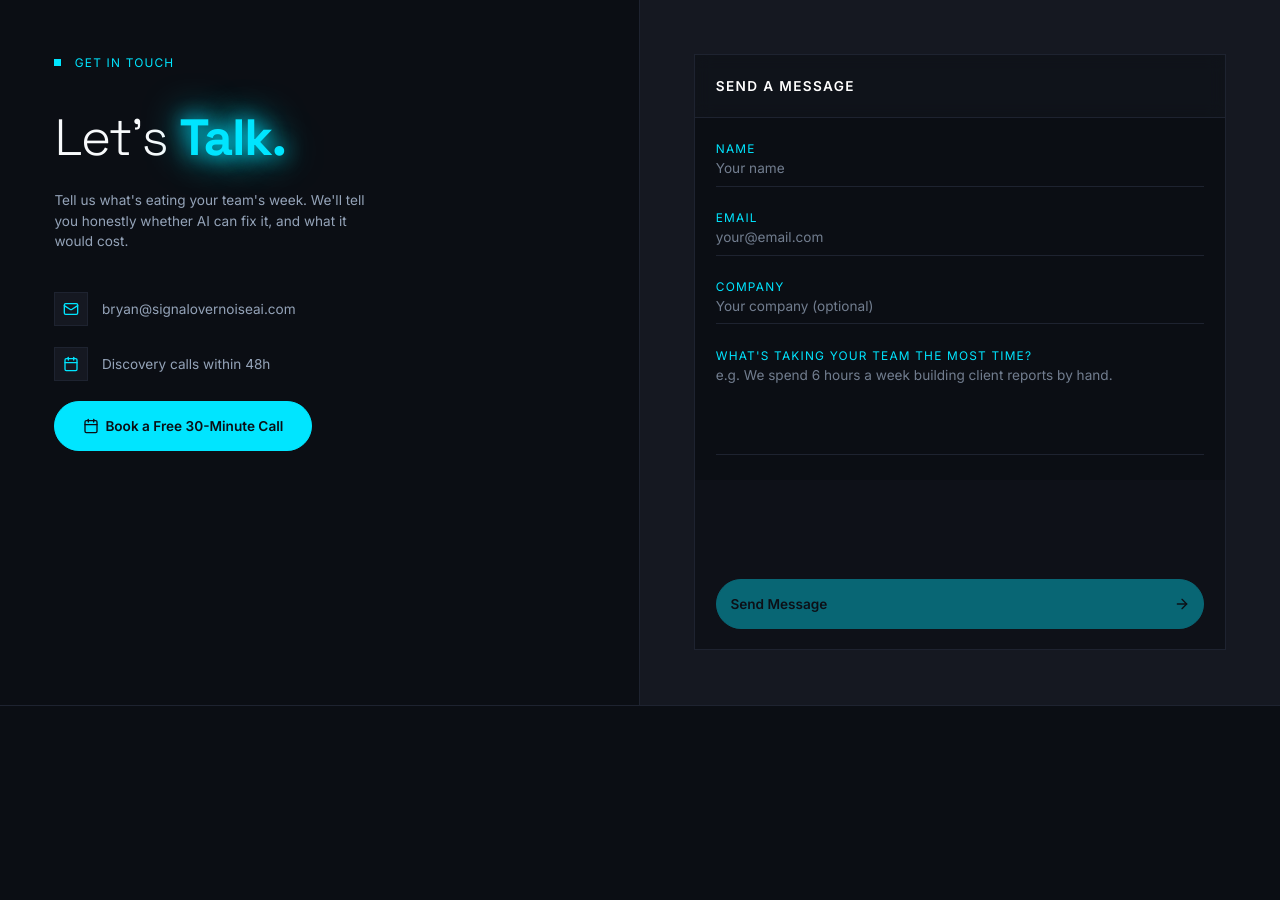
Scenario: the contact form › counts a delivered inquiry
Focus the field labelled "Name" at x=960, y=172, box [716, 158, 1204, 186]
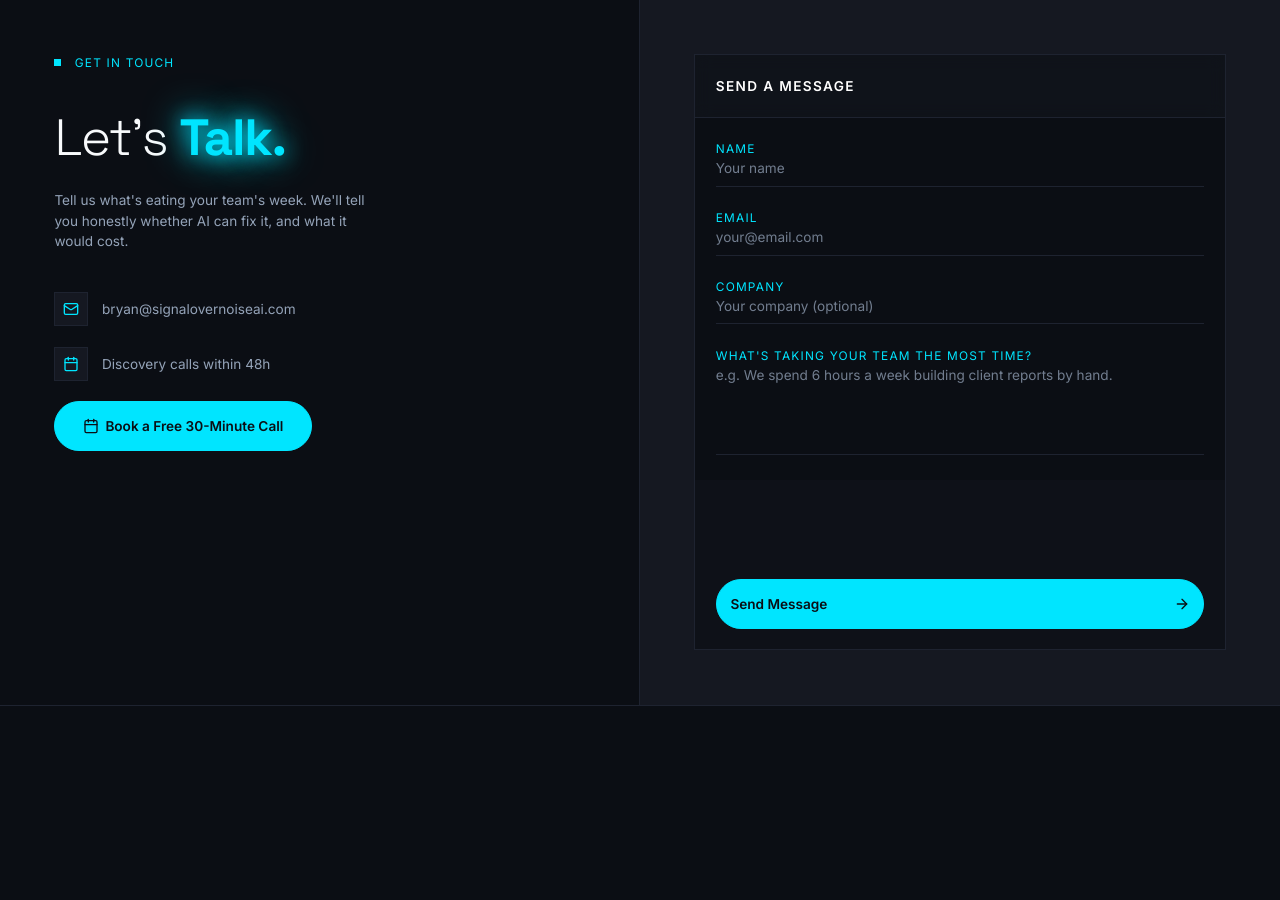
Now the button "Send Message" is enabled, box [716, 579, 1204, 629]
Type "Ada" into the field labelled "Name" at x=960, y=172, box [716, 158, 1204, 186]
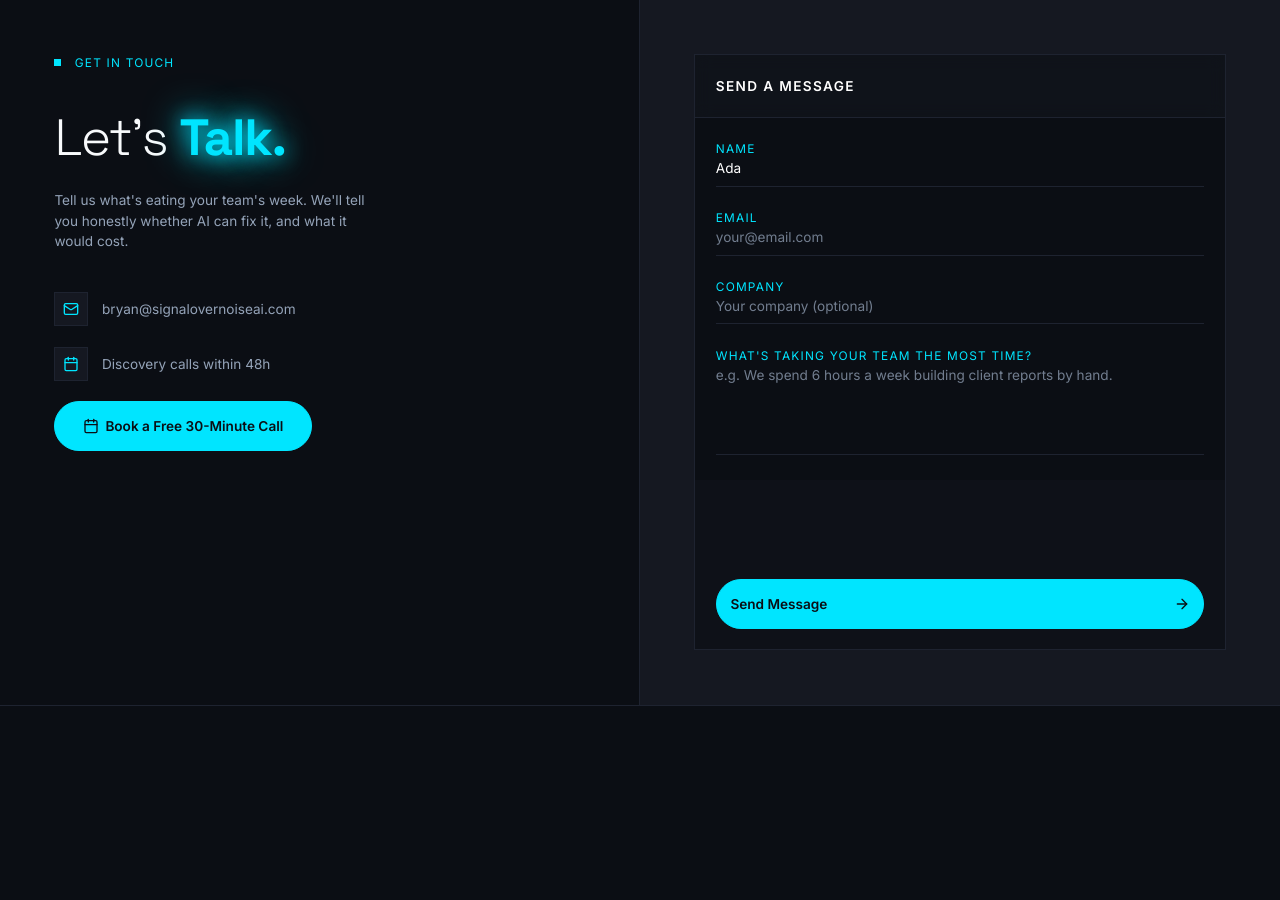
Type "ada@example.com" into the field labelled "Email" at x=960, y=241, box [716, 227, 1204, 256]
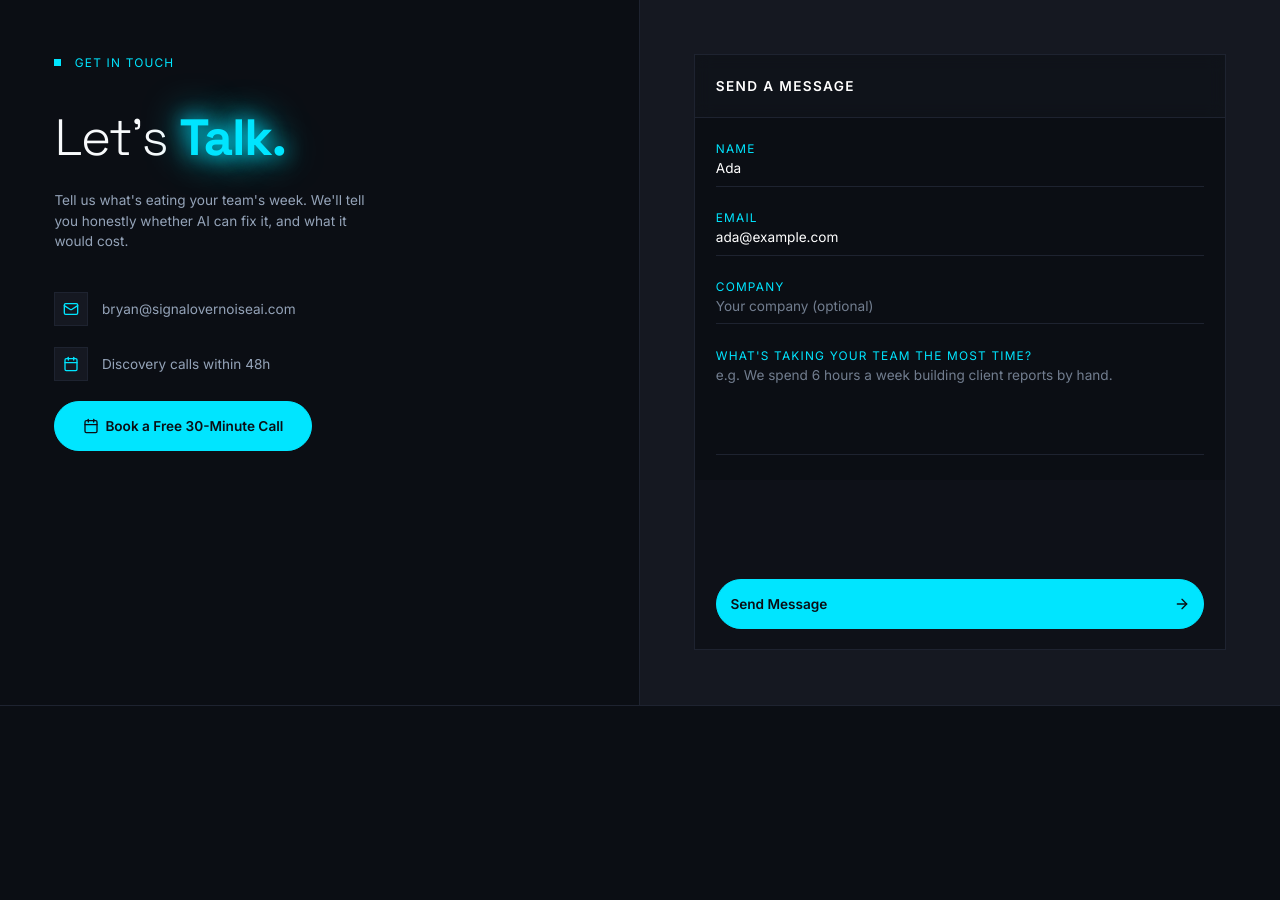
Replace the text in the text box labelled "What's taking your team the most time?" with "Hi" at x=960, y=410, box [716, 365, 1204, 455]
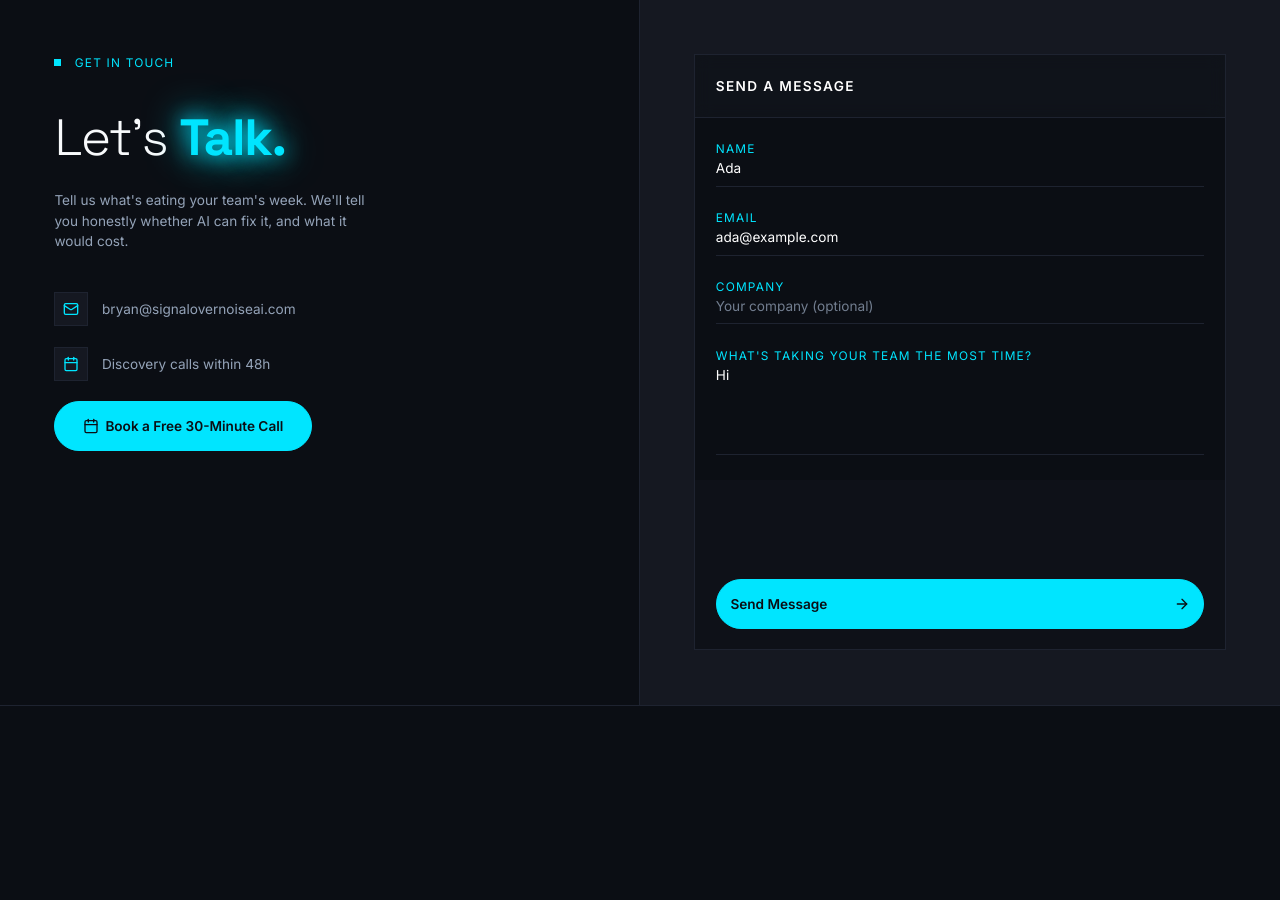
Submit the form named "send message", box [694, 54, 1226, 650]
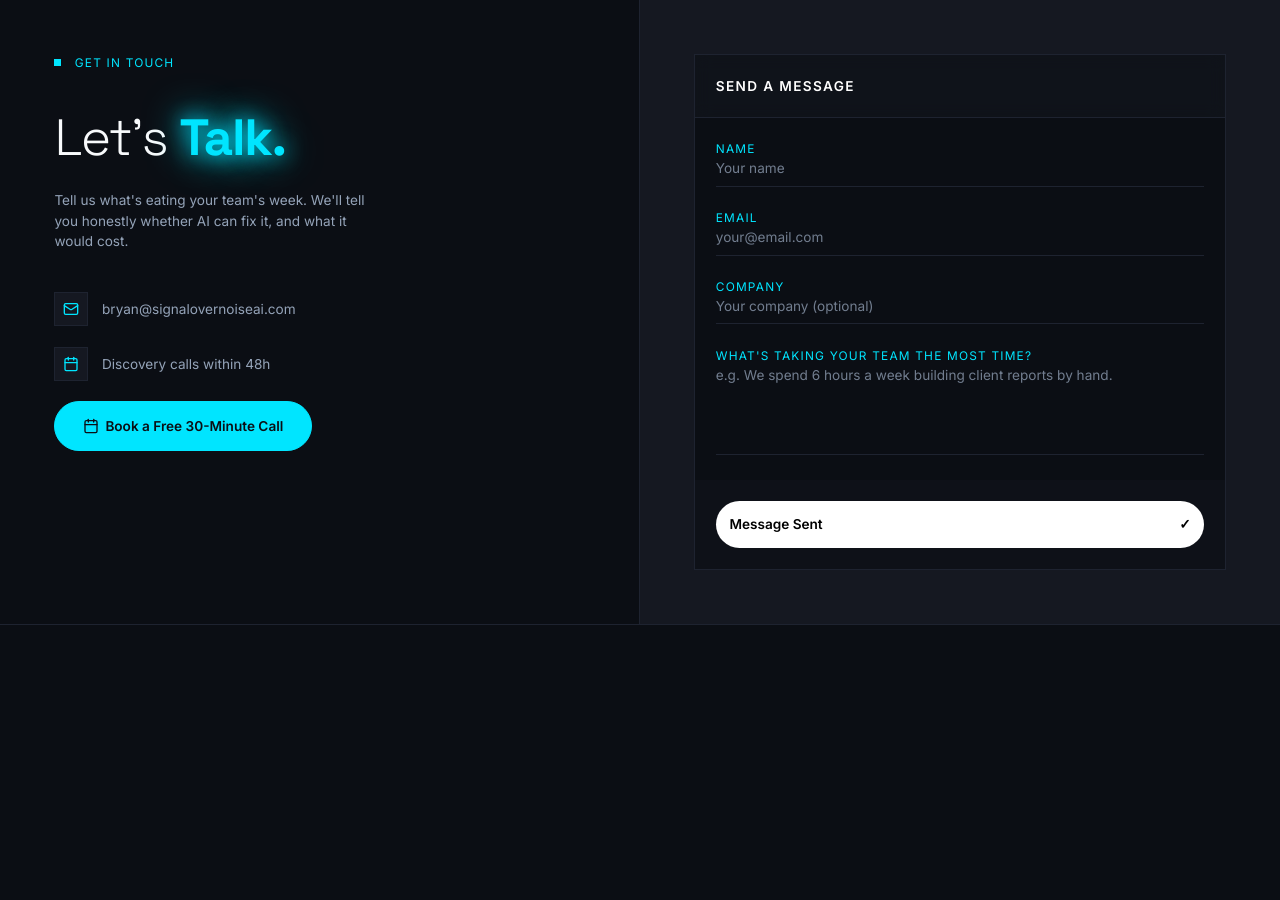
Now the text "Message Sent" is shown, box [729, 516, 823, 532]
